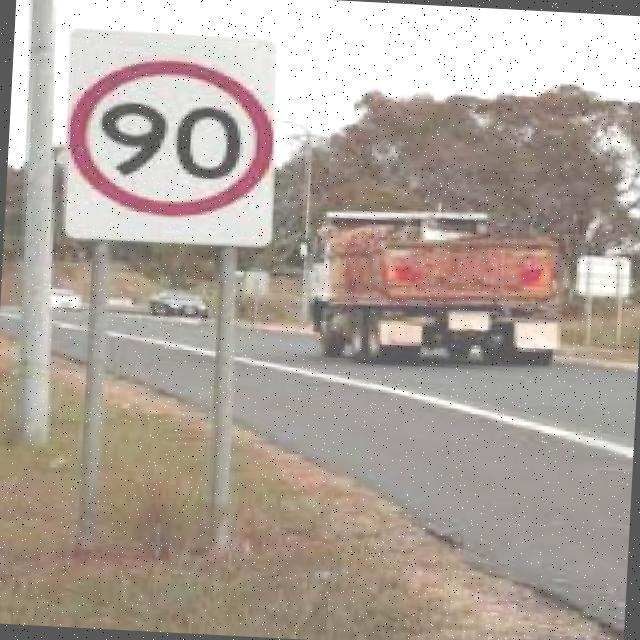Ograniczenie predkosci do 90: (71, 55, 272, 217)
